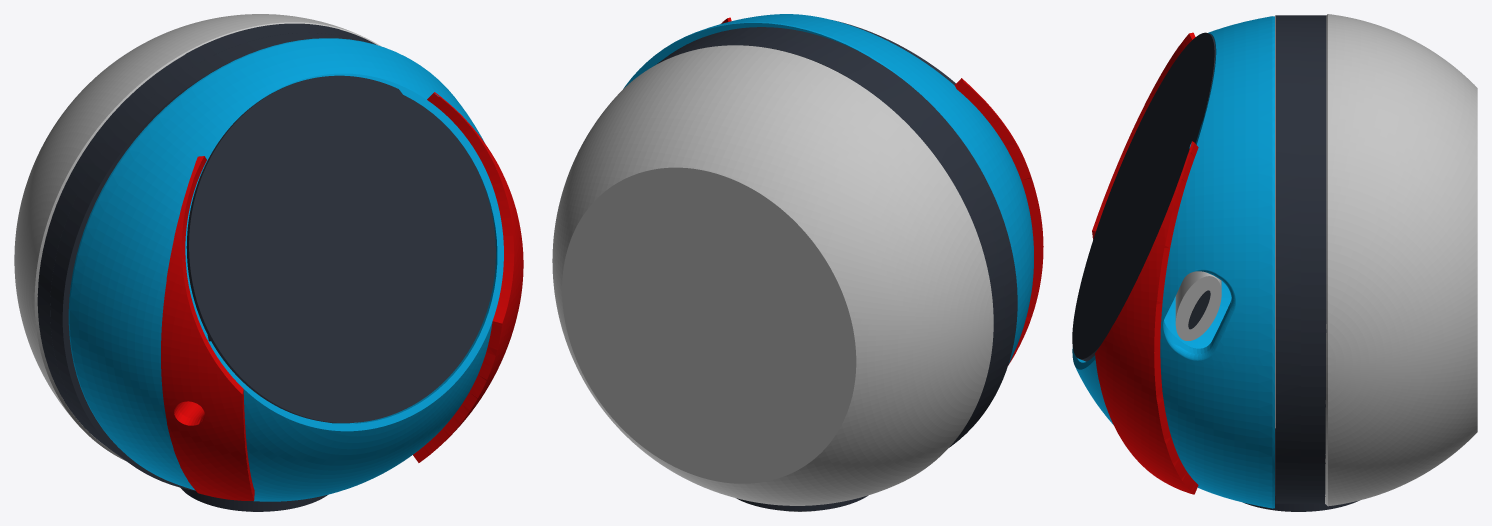
Rendered from poketama-great-screen-battery.glb.
The picture shows the model from 3 angles, left to right: view 1: azimuth 30°, elevation 25°; view 2: azimuth 150°, elevation 25°; view 3: azimuth 270°, elevation 25°; orthographic projection.
Bounding box in the file's own units: 1.96 × 2 × 1.58.
